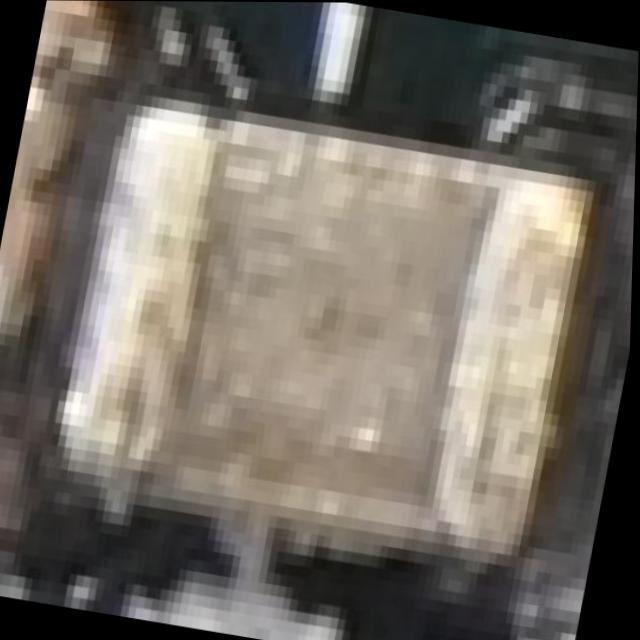Capacitor: (32, 79, 608, 595)
